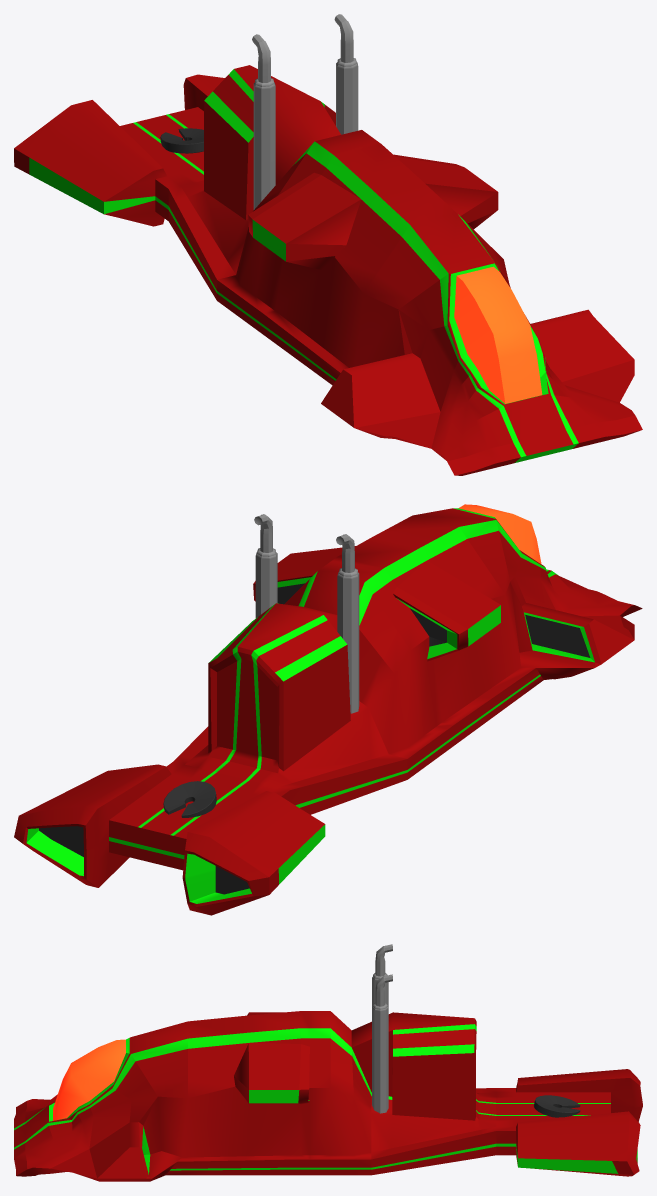
File: truckV0.0.02.fbx
3 renders of one model, top to bottom at view 1: azimuth 30°, elevation 25°; view 2: azimuth 150°, elevation 25°; view 3: azimuth 270°, elevation 25°, orthographic. The views are drawn at different scales.
Visible parts, largest first — view 1: polySurface6; view 2: polySurface6; view 3: polySurface6.
Part boxes in pixels (<box>): polySurface6: <box>14,14,642,475</box>; polySurface6: <box>14,504,642,915</box>; polySurface6: <box>14,944,642,1181</box>.
Size of the model in its own units: 232 by 206 by 602.
